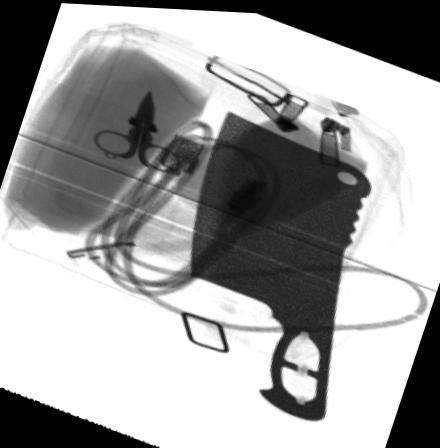Knife: (192, 109, 368, 417)
Scissors: (93, 89, 183, 172)
